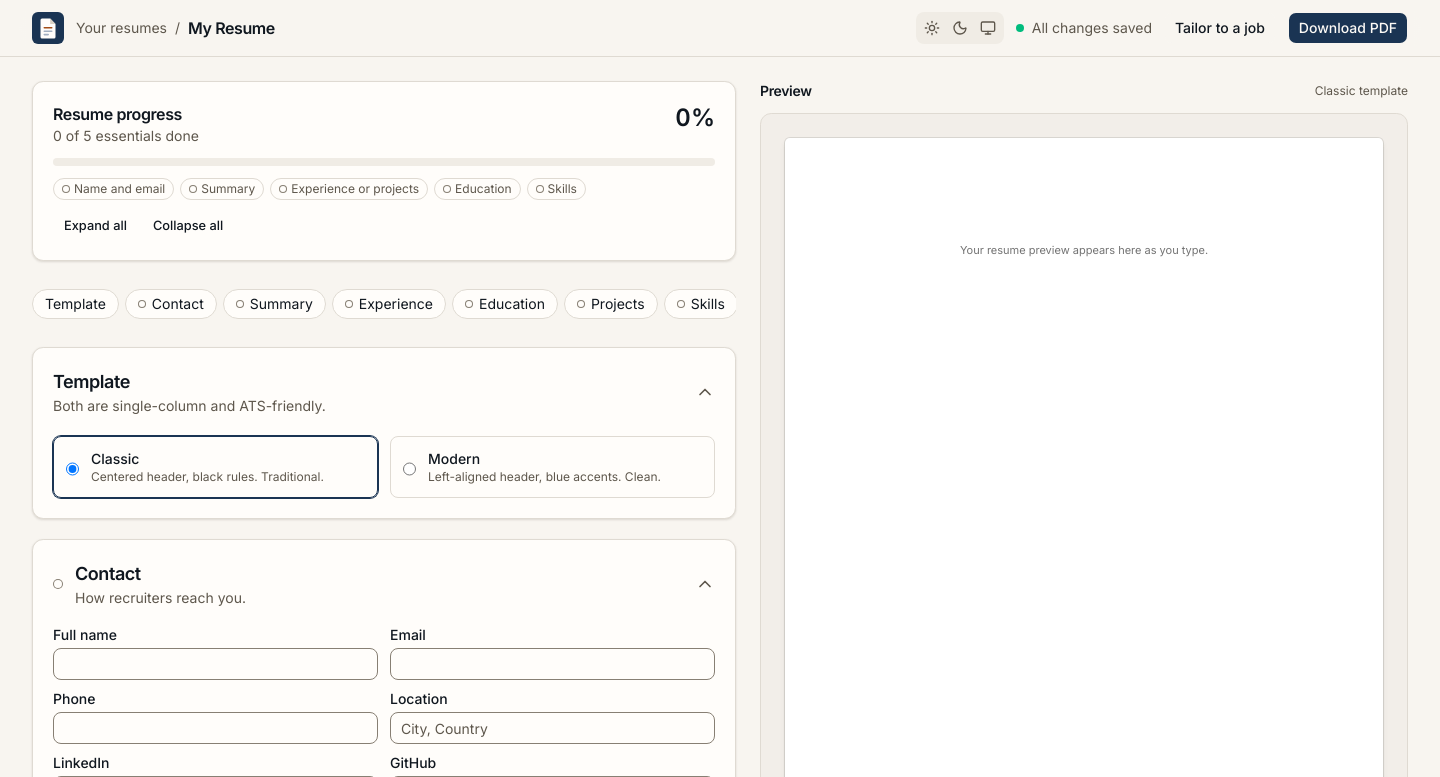
Test: unsupported PDF characters › clears the warning and re-enables the download once the text is fixed
This screenshot has width=1440, height=777.
Type "Asha 🚀" into the field labelled "Full name" at coordinates (216, 664), box 53,648 -> 378,680
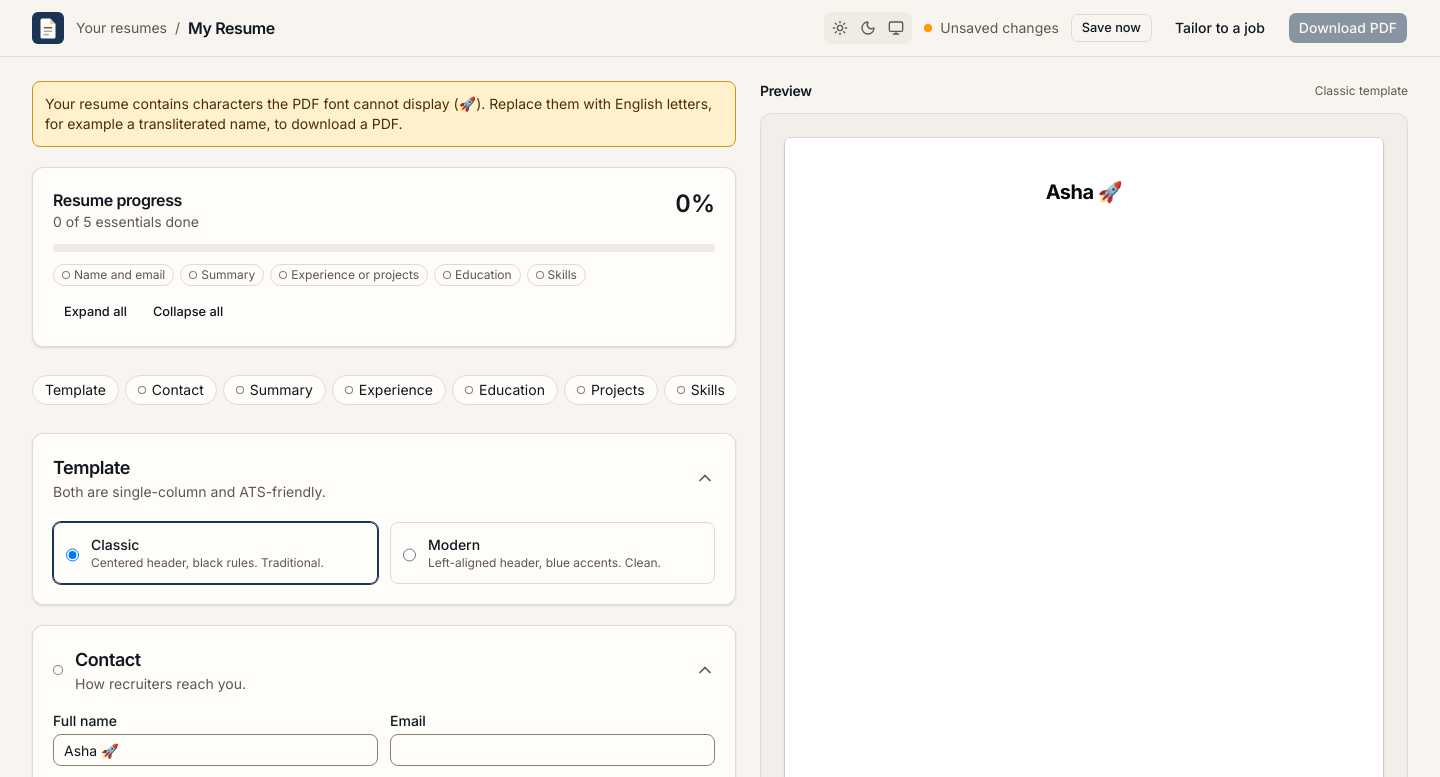
Now the message with test id "unsupported-chars" is shown, box 32,81 -> 736,147
Replace the text in the field labelled "Full name" with "Asha Rao" at coordinates (216, 750), box 53,734 -> 378,766
Wait 1000 ms
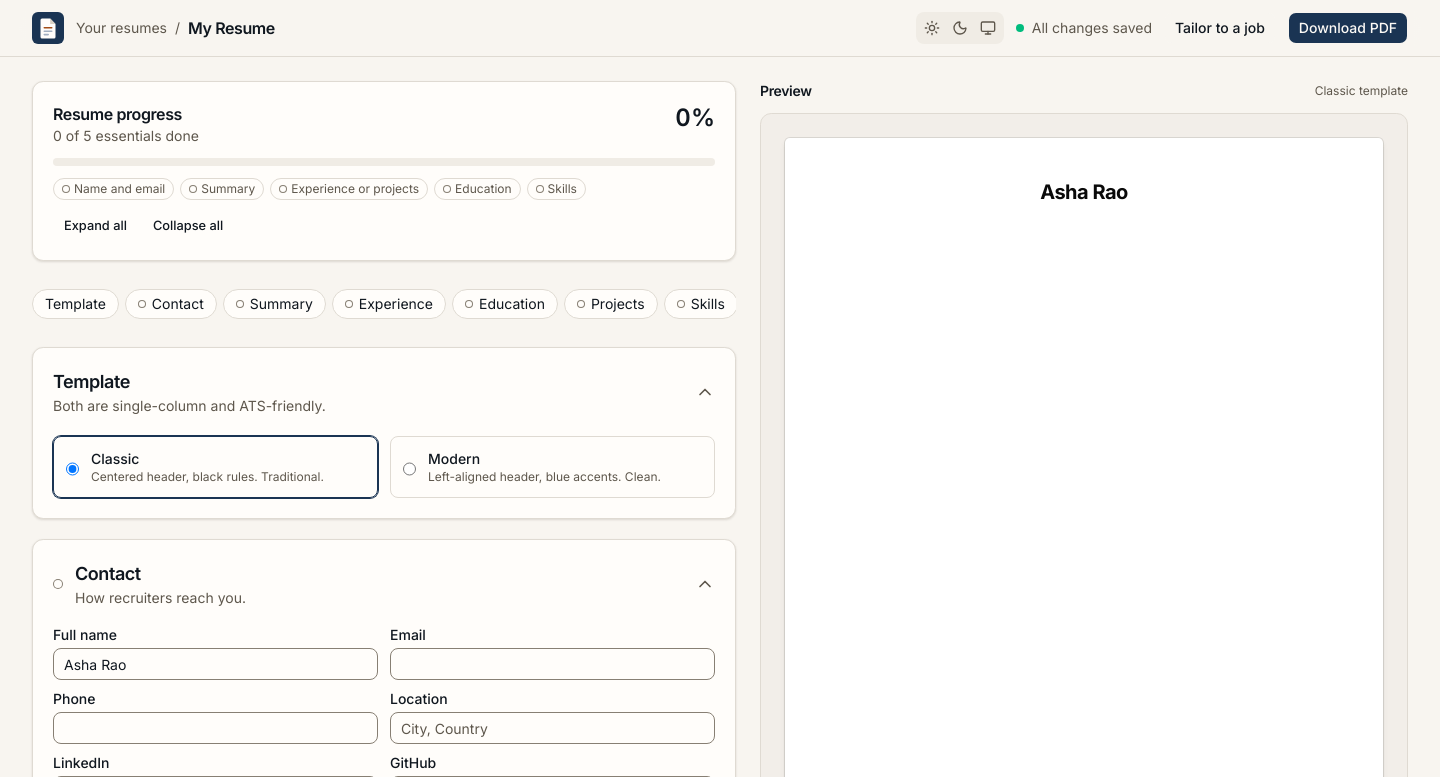
Expected: the link "Download PDF" is shown, 1288,12 -> 1408,44
Now the message with test id "unsupported-chars" is gone
